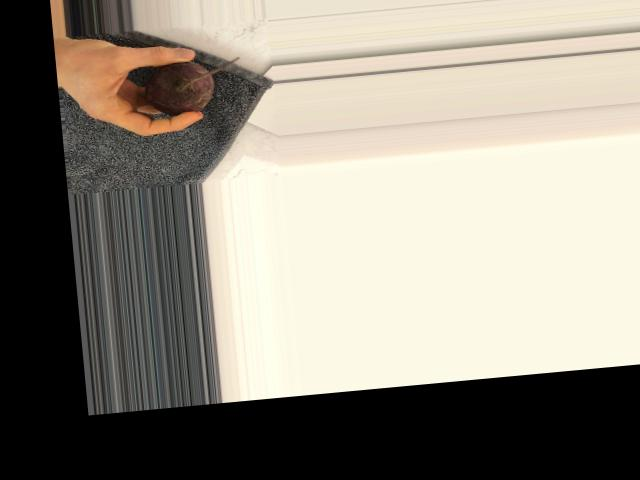beet: (143, 56, 245, 117)
